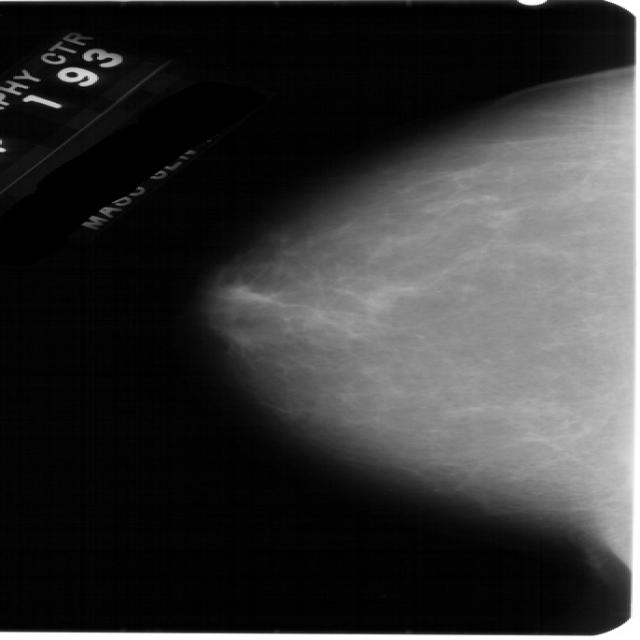tumour: (358, 282, 412, 314)
